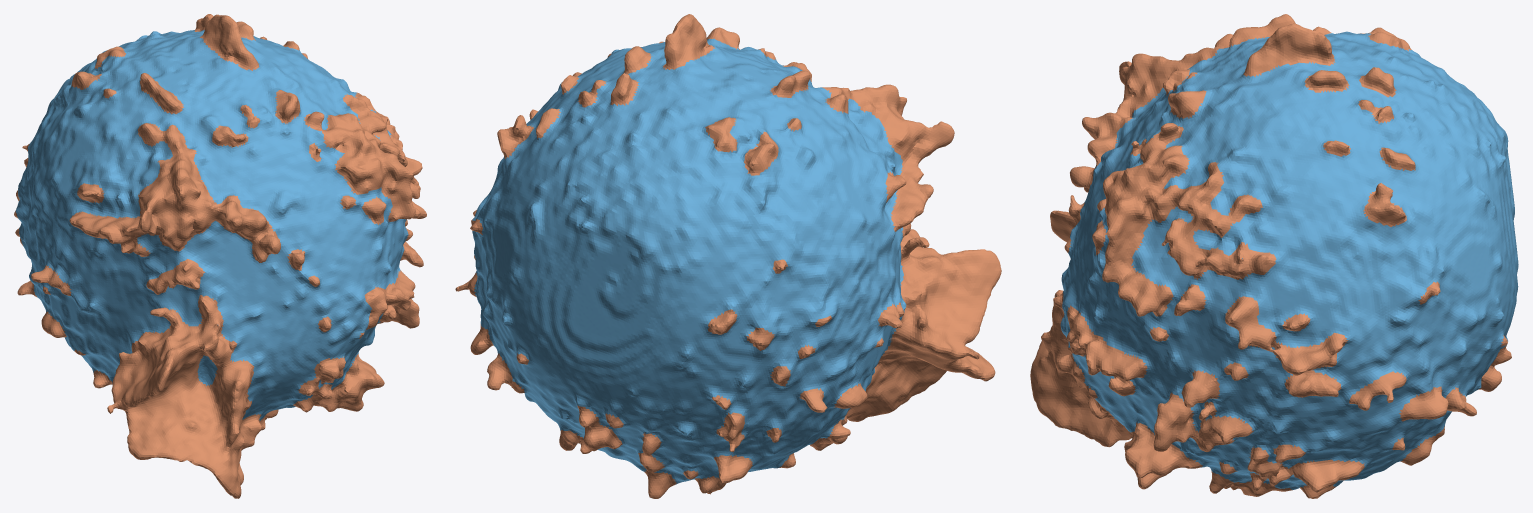
3 views of the same model, side by side, from view 1: azimuth 30°, elevation 25°; view 2: azimuth 150°, elevation 25°; view 3: azimuth 270°, elevation 25° (orthographic). The views are drawn at different scales.
Size of the model in its own units: 144 by 150 by 142.
